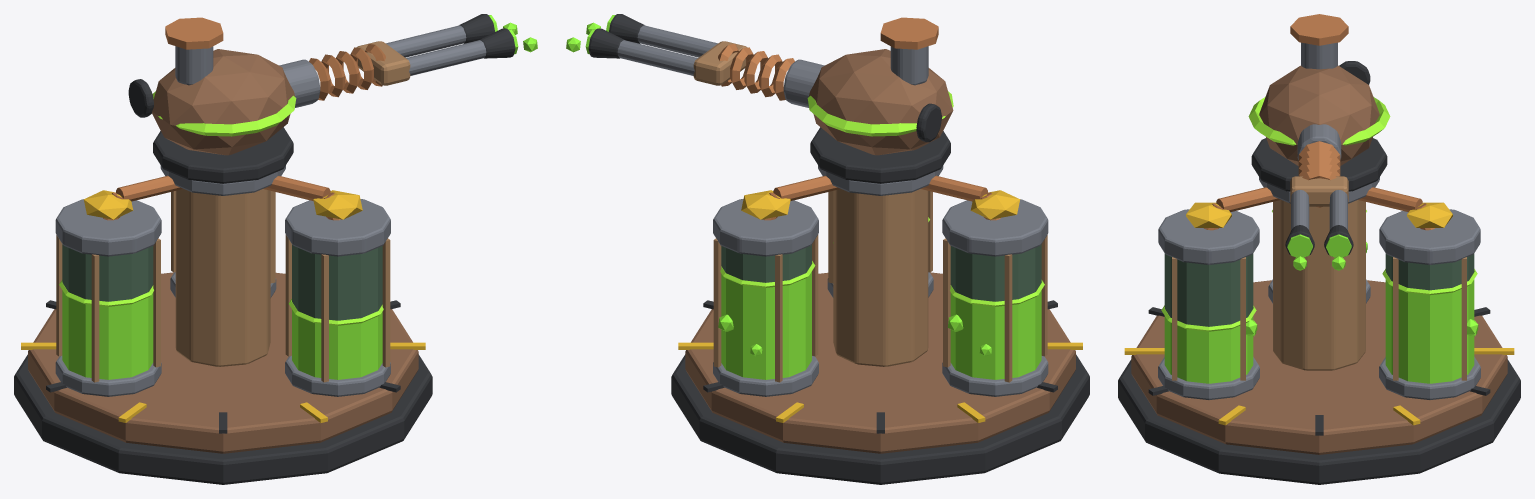
The model's file is torreta_acido.obj.
3 renders of one model, left to right at view 1: azimuth 30°, elevation 25°; view 2: azimuth 150°, elevation 25°; view 3: azimuth 270°, elevation 25°, orthographic. The views are drawn at different scales.
Parts seen in each view (by area): view 1: Base, Pivot, Barrel; view 2: Base, Pivot, Barrel; view 3: Base, Pivot, Barrel.
Boxes of the visible parts, x1,y1,x2,y2 form: Base: (14,165,432,484); Pivot: (128,17,296,183); Barrel: (279,14,537,107); Base: (671,165,1089,484); Pivot: (807,17,953,183); Barrel: (566,14,824,107); Base: (1118,177,1520,484); Pivot: (1248,14,1390,191); Barrel: (1285,124,1353,270).
Bounding box in the file's own units: 4.01 × 2.97 × 3.
Materials: 1 (1 with a texture image).
